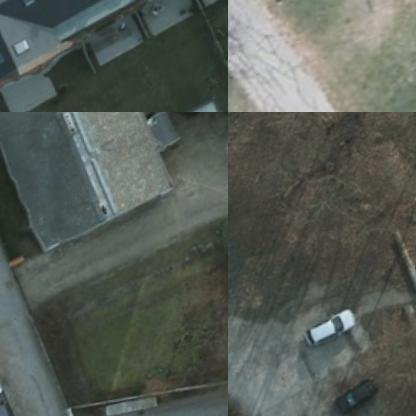car: (326, 375, 386, 415), (298, 310, 356, 350), (0, 397, 31, 415), (0, 345, 8, 403)
